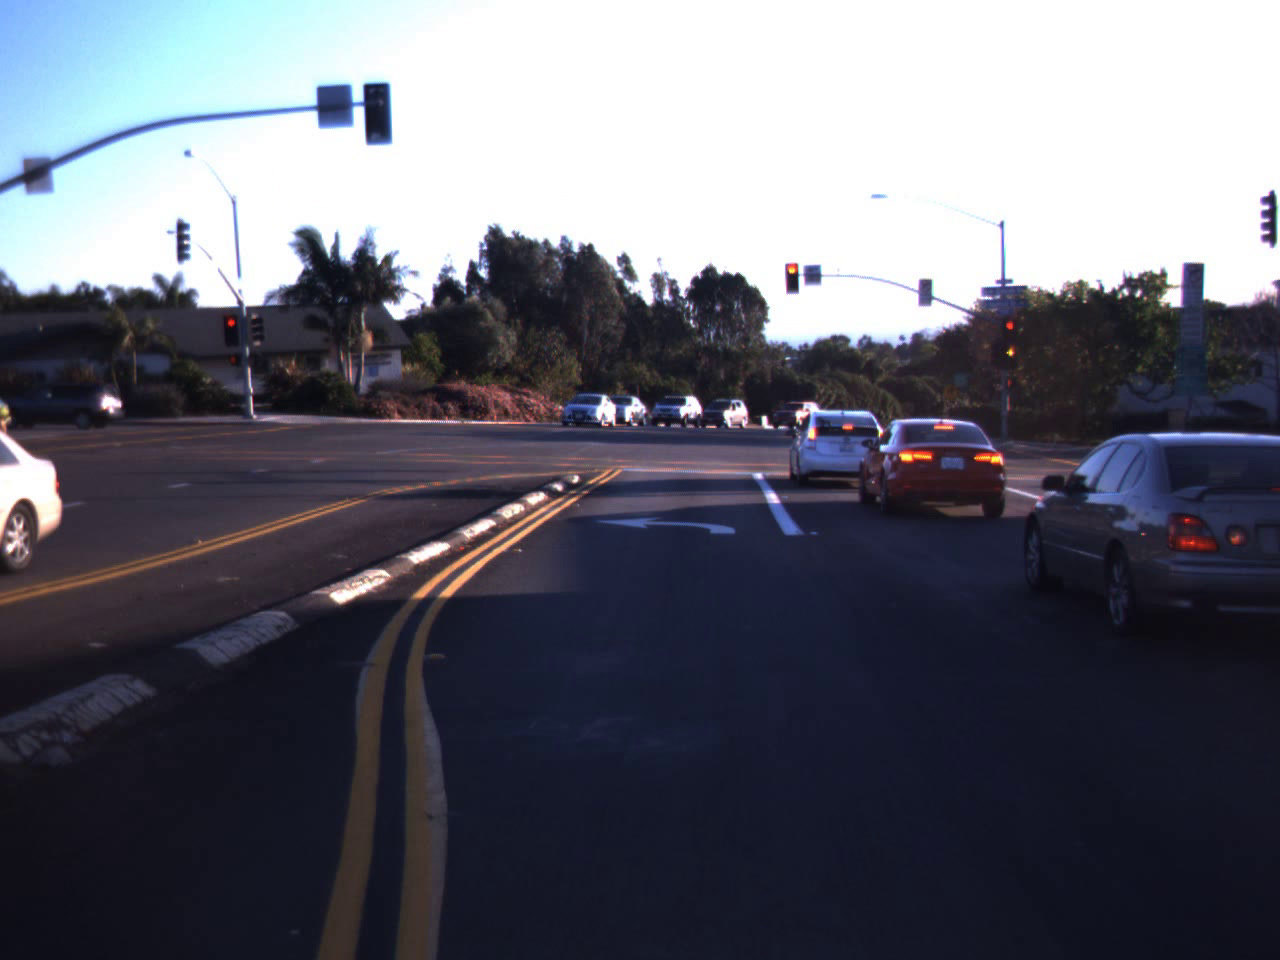stop: (778, 259, 808, 299), (1002, 320, 1017, 347), (224, 317, 239, 344)
